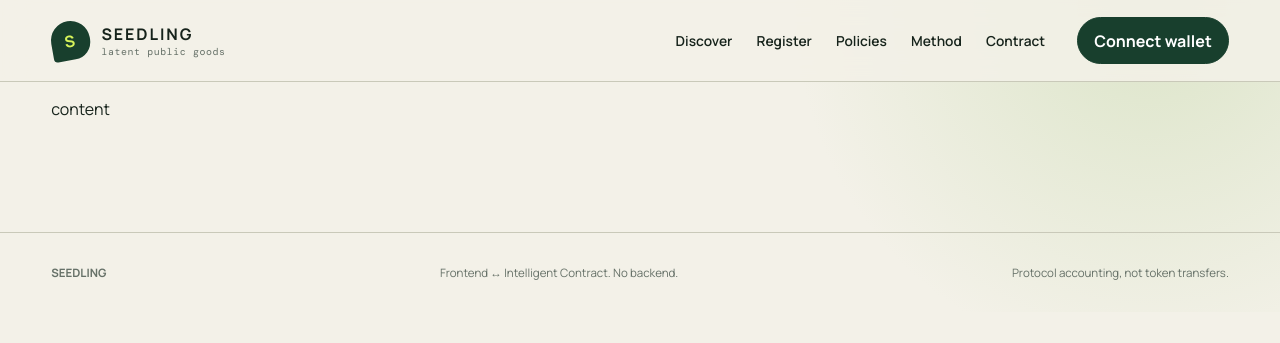
Test: empty, wallet, and network states › surfaces wrong-network state after wallet connection
Click the button "Connect wallet".
click(1153, 40)  # box [1077, 17, 1229, 64]
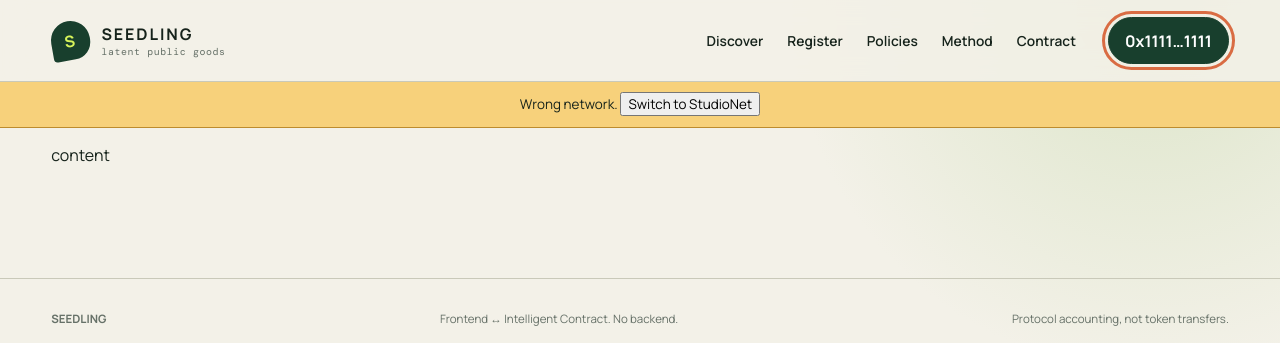
Now the message shows "Wrong network", box [520, 95, 620, 113]
